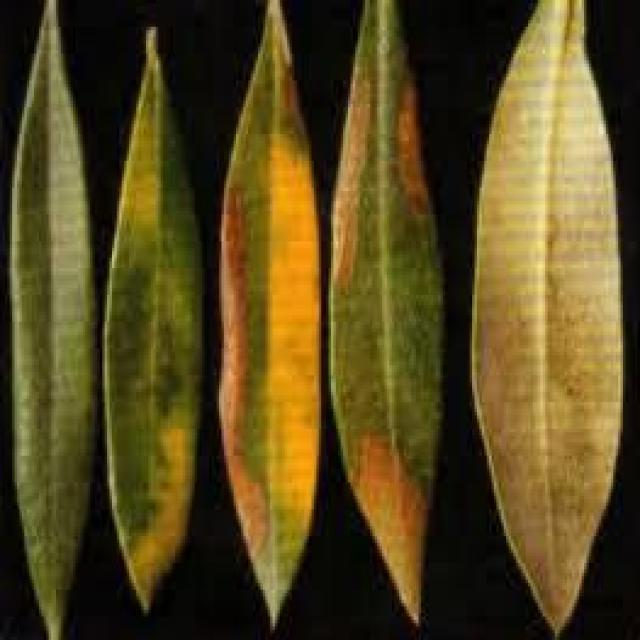Peacock Eye: (475, 0, 621, 630), (329, 0, 440, 620), (221, 17, 319, 613), (105, 27, 200, 610)
